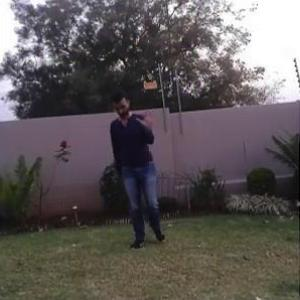follow_hand: (137, 106, 159, 131)
